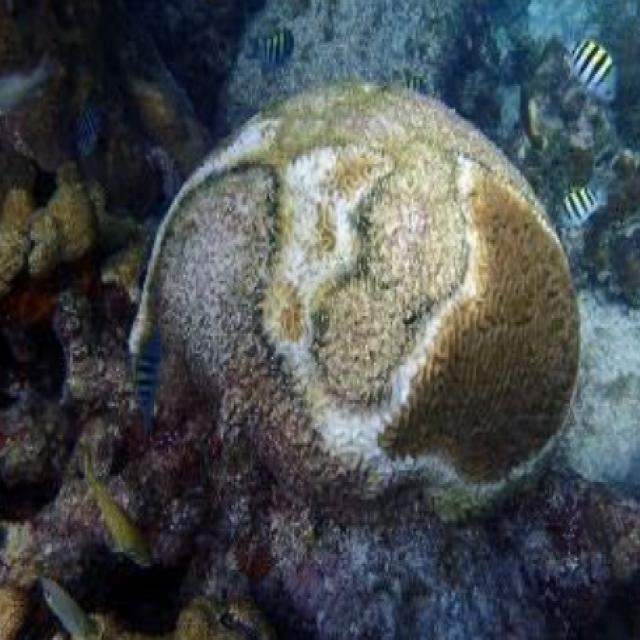Coral: (129, 77, 578, 524)
